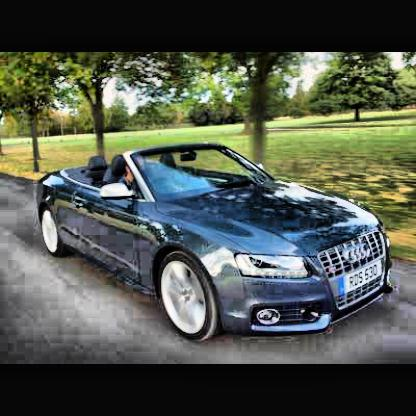Audi S5 Convertible 2012: (40, 146, 394, 345)
